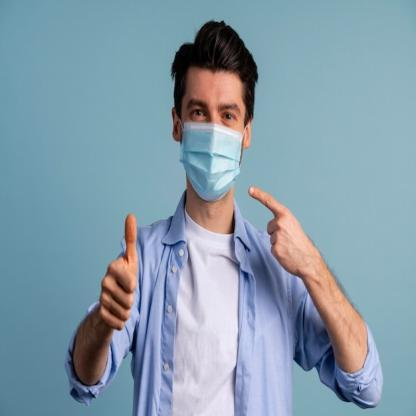thumb_up: (99, 212, 145, 334)
